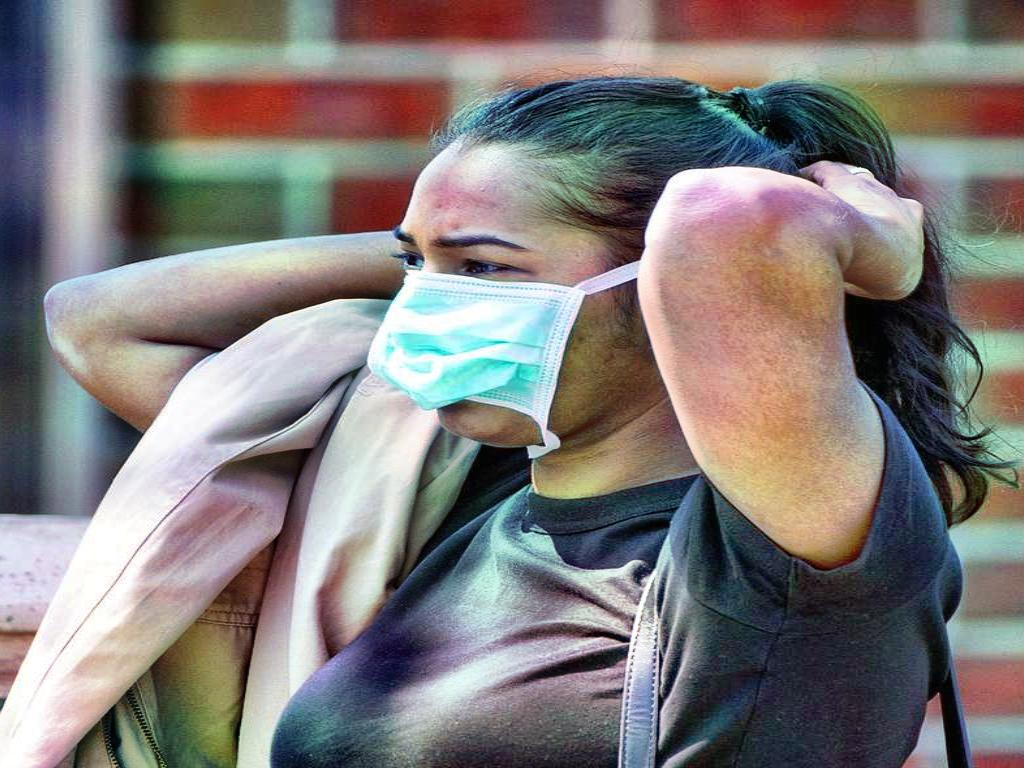mask_weared_incorrect: (360, 75, 797, 465)
